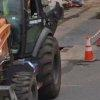Tractor: (2, 1, 68, 100)
